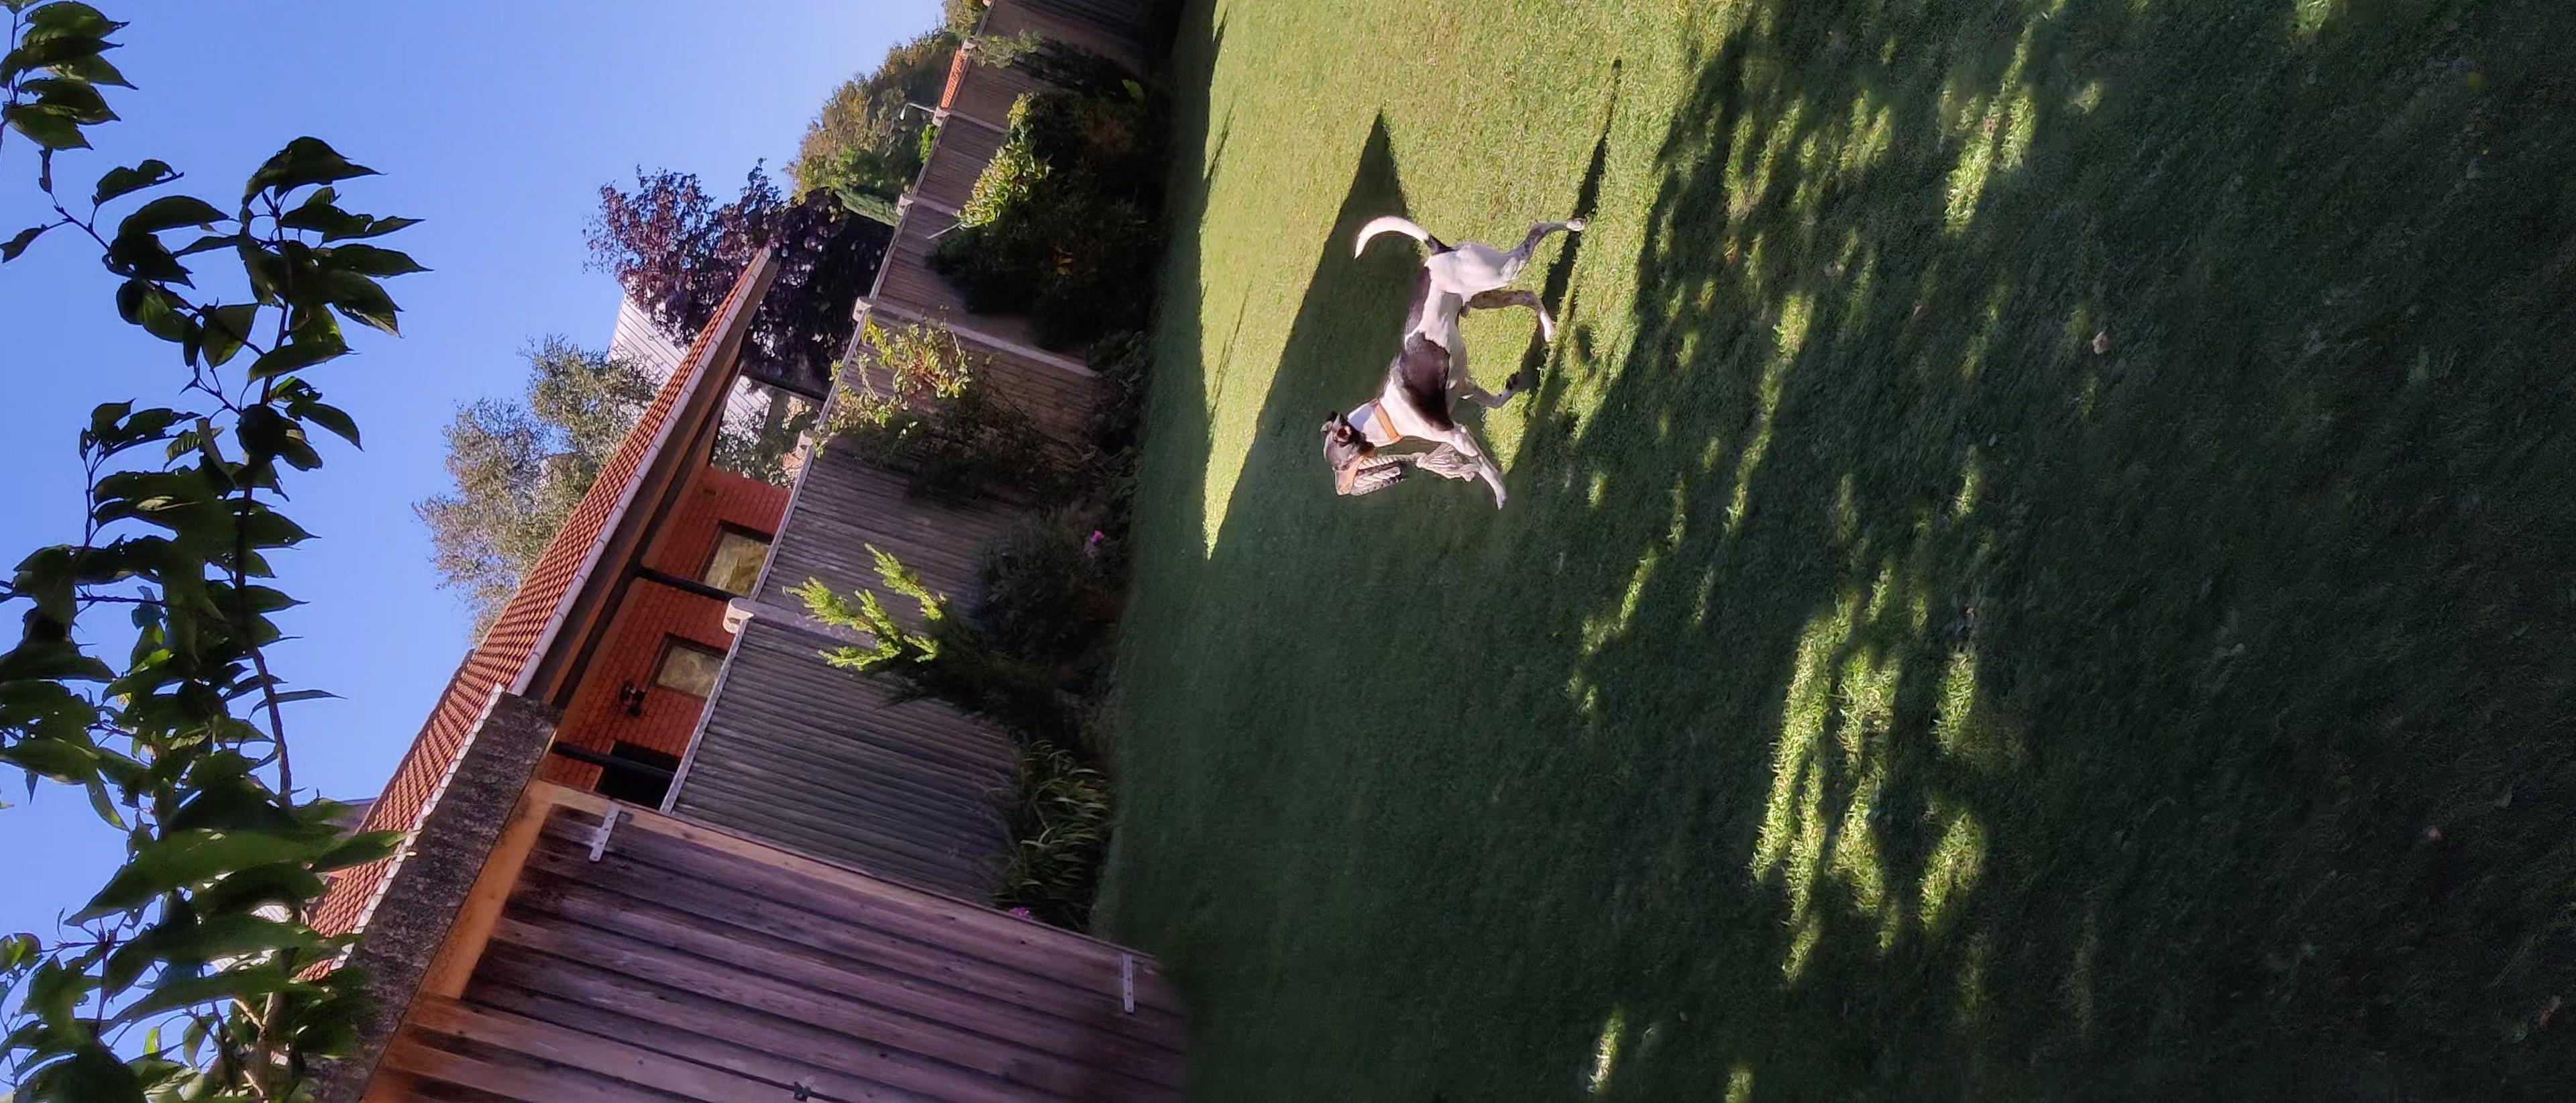Dog: (1314, 212, 1590, 513)
